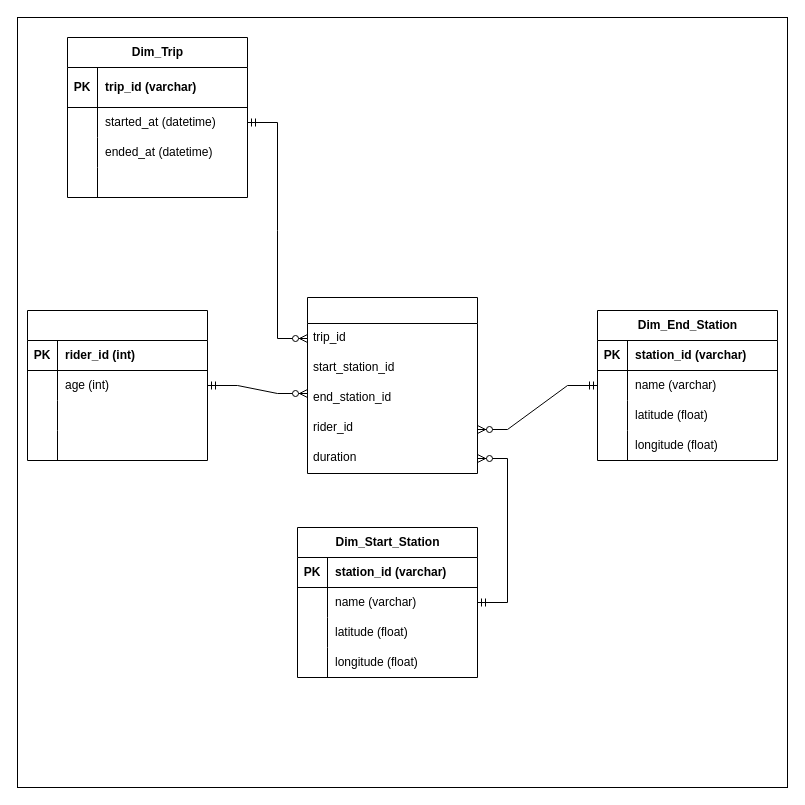
This 805x805 diagram has some shape labels left out. The box of each missing label's shape, as (x1, y1, x2, y2) in pixels:
Dim_Rider: (26, 310, 208, 460)
Fact_Duration: (306, 296, 478, 474)
